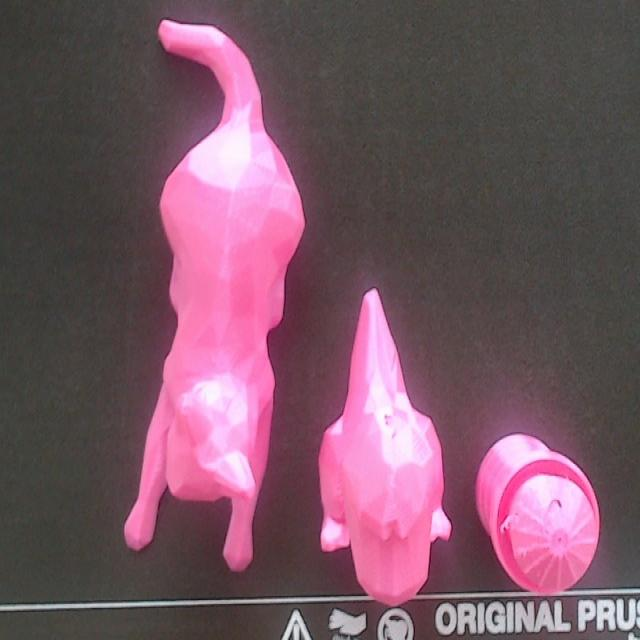mistake: (501, 515, 512, 532)
